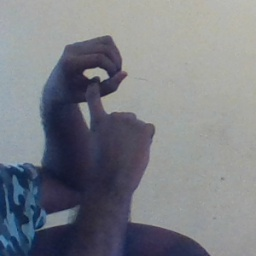Q: (36, 36, 156, 161)
